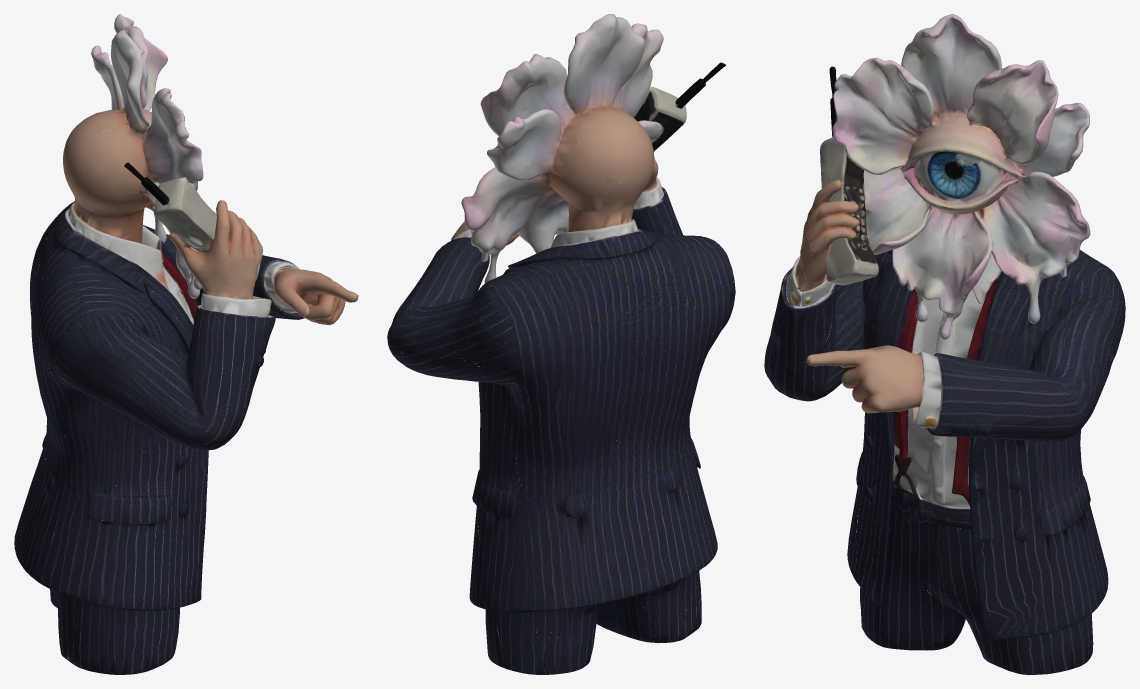
Rendered from broker.glb.
3 renders of one model, left to right at view 1: azimuth 30°, elevation 25°; view 2: azimuth 150°, elevation 25°; view 3: azimuth 270°, elevation 25°, orthographic. The views are drawn at different scales.
Parts seen in each view (by area): view 1: tripo_node_dc92663d-ffc9-4d0f-b94a-6544d8566fac; view 2: tripo_node_dc92663d-ffc9-4d0f-b94a-6544d8566fac; view 3: tripo_node_dc92663d-ffc9-4d0f-b94a-6544d8566fac.
Boxes of the visible parts, bbox=[...] form: tripo_node_dc92663d-ffc9-4d0f-b94a-6544d8566fac: bbox=[14, 14, 358, 674]; tripo_node_dc92663d-ffc9-4d0f-b94a-6544d8566fac: bbox=[387, 14, 735, 674]; tripo_node_dc92663d-ffc9-4d0f-b94a-6544d8566fac: bbox=[764, 14, 1125, 674].
Bounding box in the file's own units: 0.4889 × 1 × 0.5243.
Materials: 1 (1 with a texture image).
